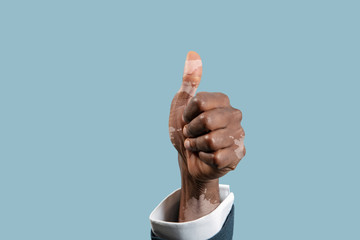vitiligo: (181, 54, 248, 165)
